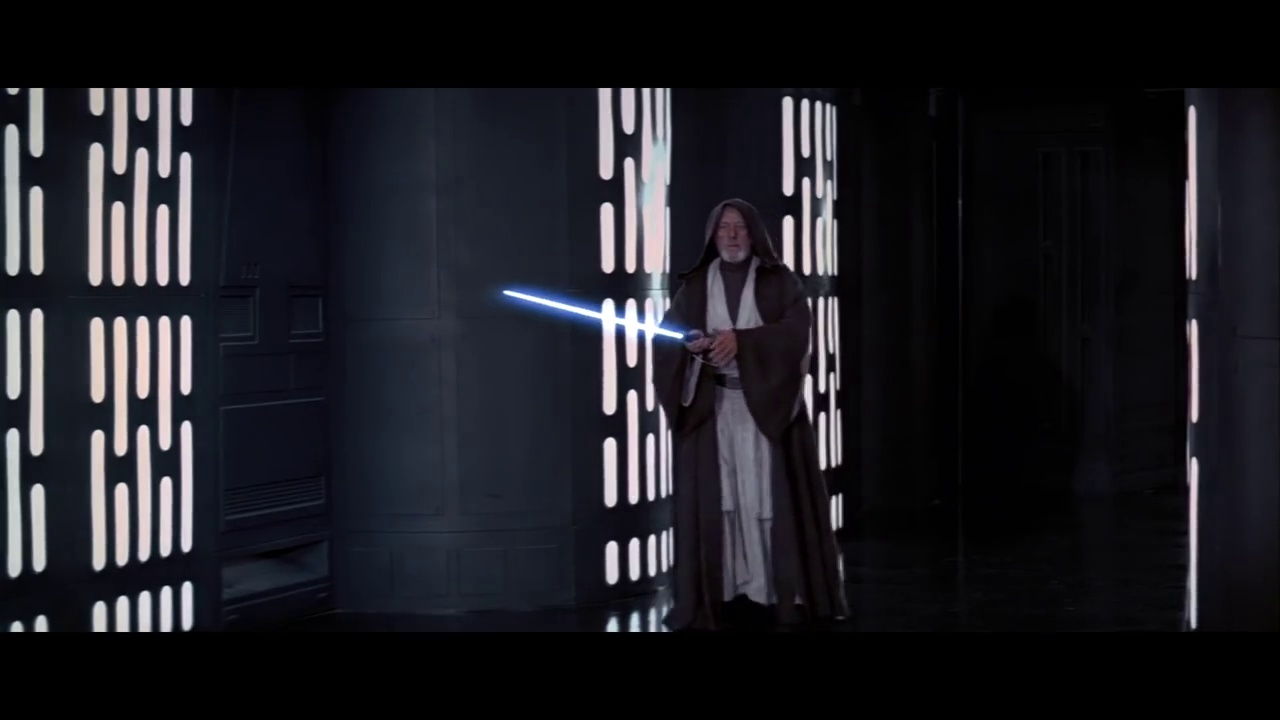lightsaber: (498, 279, 717, 350)
